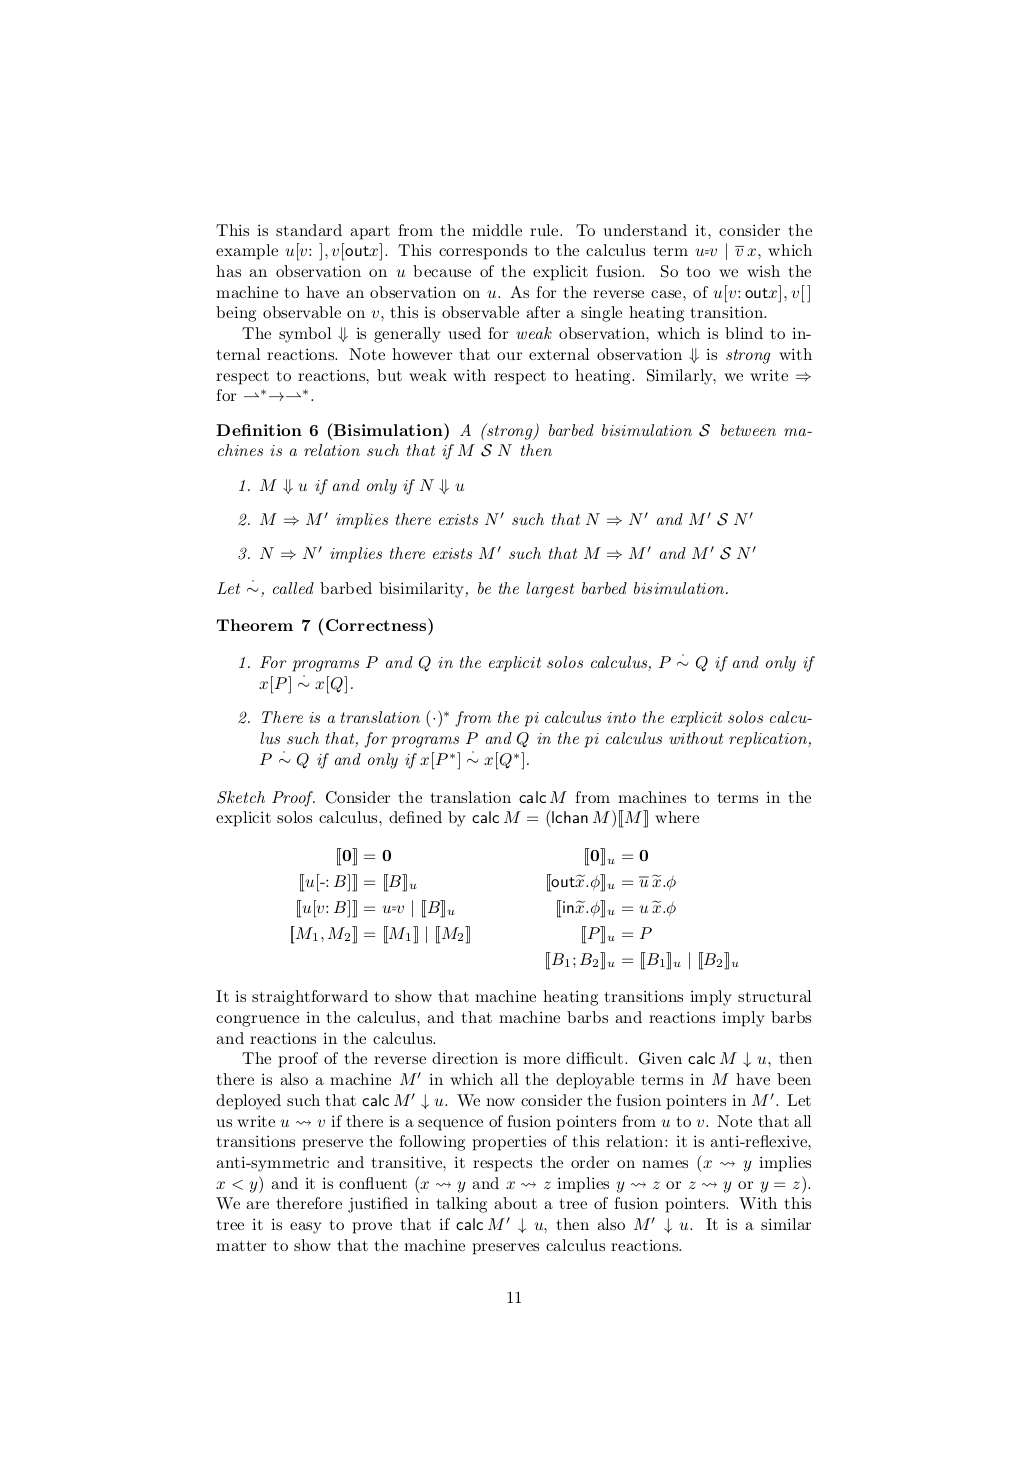formula: (297, 898, 675, 918), (300, 872, 675, 892), (291, 925, 651, 944), (337, 847, 647, 866), (546, 951, 738, 970), (259, 674, 351, 694)
